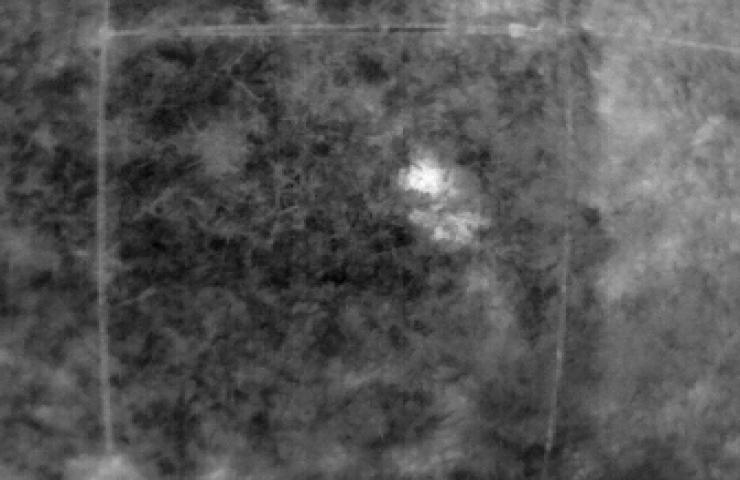landmines: (398, 154, 459, 204)
